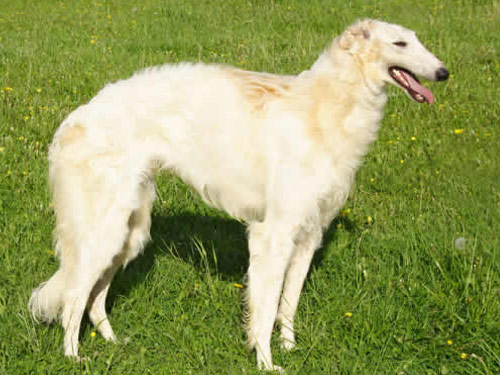borzoi: (24, 17, 456, 368)
